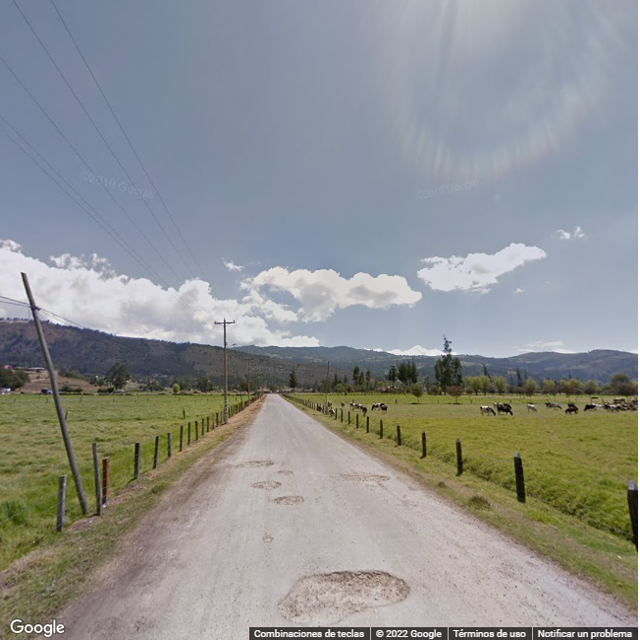D40: (282, 568, 409, 627), (252, 534, 276, 550)
